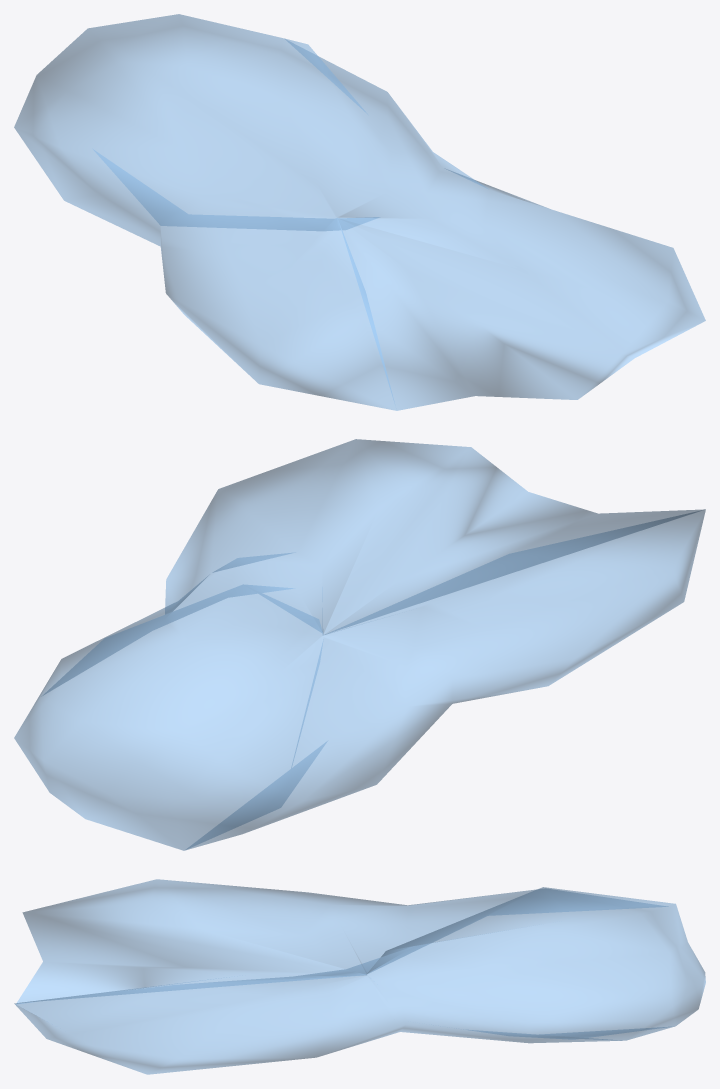
The model's file is sspolaris_shield.gltf.
3 renders of one model, top to bottom at view 1: azimuth 30°, elevation 25°; view 2: azimuth 150°, elevation 25°; view 3: azimuth 270°, elevation 25°, orthographic. The views are drawn at different scales.
Visible parts, largest first — view 1: sspolaris.shield; view 2: sspolaris.shield; view 3: sspolaris.shield.
Part boxes in pixels (box(x1,y1,x2,y2)): sspolaris.shield: box(14, 14, 705, 410); sspolaris.shield: box(14, 439, 705, 850); sspolaris.shield: box(14, 879, 705, 1074).
Bounding box in the file's own units: 12.38 × 4.11 × 21.41.
